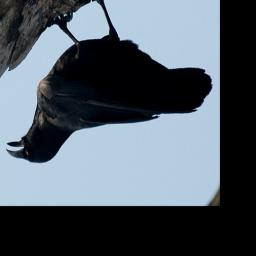Crow: (3, 0, 213, 165)
